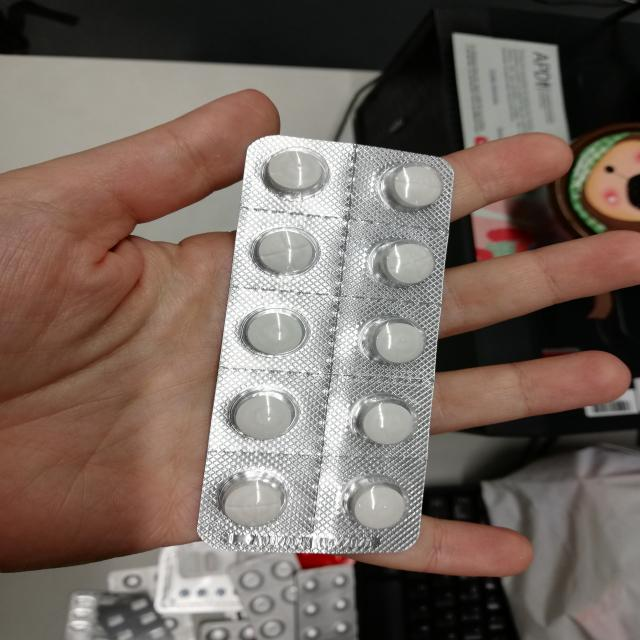Pill: (248, 219, 332, 285), (252, 138, 335, 200), (237, 297, 311, 365), (356, 311, 435, 374), (211, 469, 289, 532), (226, 388, 307, 444), (337, 478, 413, 536), (380, 161, 456, 217), (372, 236, 443, 292), (354, 396, 426, 450)
